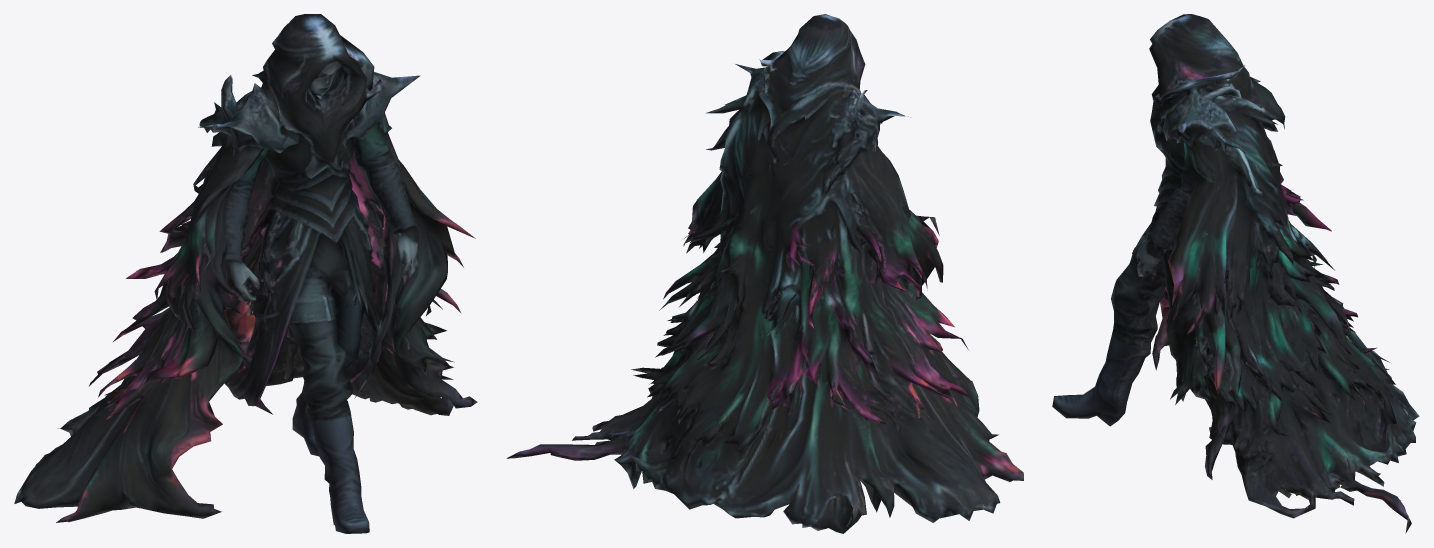
File: Durch (small).glb
The picture shows the model from 3 angles, left to right: view 1: azimuth 30°, elevation 25°; view 2: azimuth 150°, elevation 25°; view 3: azimuth 270°, elevation 25°; orthographic projection. The views are drawn at different scales.
Parts seen in each view (by area): view 1: Mesh1.0; view 2: Mesh1.0; view 3: Mesh1.0.
Boxes of the visible parts, x1=… form: Mesh1.0: x1=14, y1=14, x2=477, y2=533; Mesh1.0: x1=506, y1=14, x2=1023, y2=533; Mesh1.0: x1=1052, y1=14, x2=1419, y2=533.
Bounding box in the file's own units: 1.91 × 1.81 × 1.42.
1 material, 1 textured.
